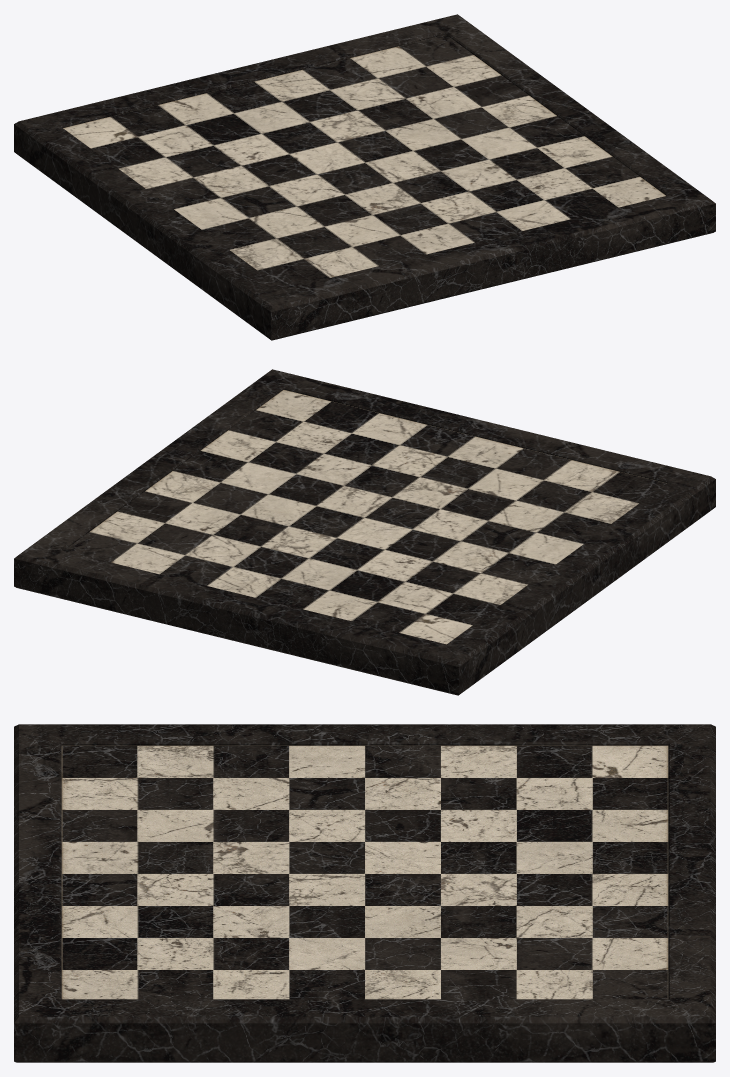
Rendered from chessBoard.fbx.
The picture shows the model from 3 angles, top to bottom: view 1: azimuth 30°, elevation 25°; view 2: azimuth 150°, elevation 25°; view 3: azimuth 270°, elevation 25°; orthographic projection. The views are drawn at different scales.
Visible parts, largest first — view 1: chessBoard; view 2: chessBoard; view 3: chessBoard.
Part boxes in pixels (box(x1,y1,x2,y2)): chessBoard: box(14, 14, 715, 340); chessBoard: box(14, 369, 715, 695); chessBoard: box(14, 724, 715, 1062).
Size of the model in its own units: 2.67 by 0.1885 by 2.67.
